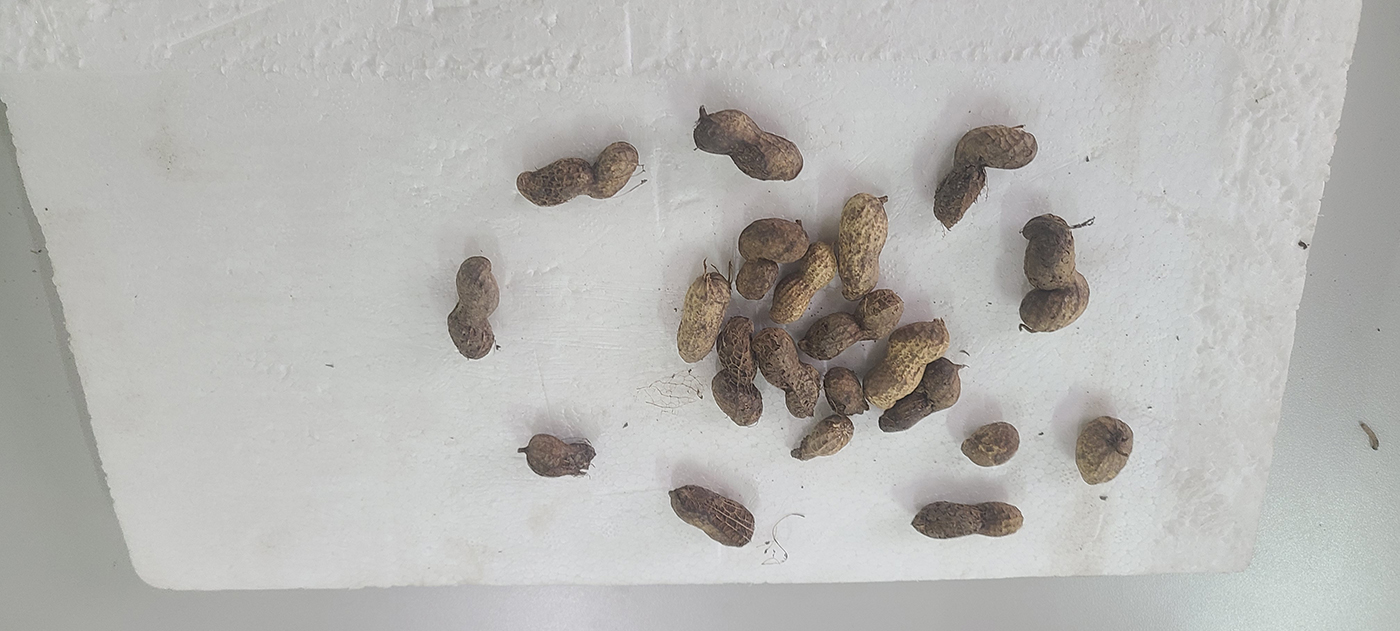l: (933, 124, 1039, 228), (1019, 214, 1090, 334), (692, 108, 803, 181), (515, 141, 639, 205), (799, 289, 905, 360), (866, 320, 949, 408), (753, 326, 821, 418), (879, 358, 961, 432), (709, 316, 764, 426), (446, 256, 500, 359), (771, 242, 838, 323), (669, 484, 755, 547), (837, 194, 887, 301), (677, 272, 730, 363), (910, 501, 1025, 540), (1074, 414, 1134, 485), (525, 433, 596, 478), (739, 218, 809, 263), (793, 415, 855, 461), (961, 422, 1020, 466), (825, 366, 865, 415), (735, 259, 778, 299)
